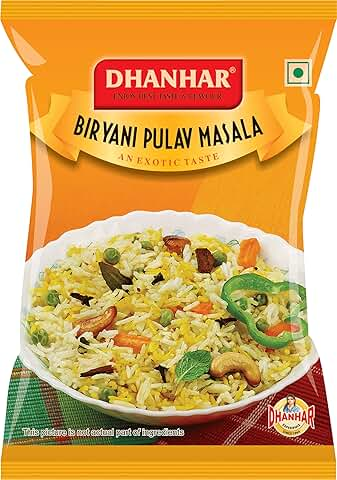Biryani: (5, 1, 337, 480)
